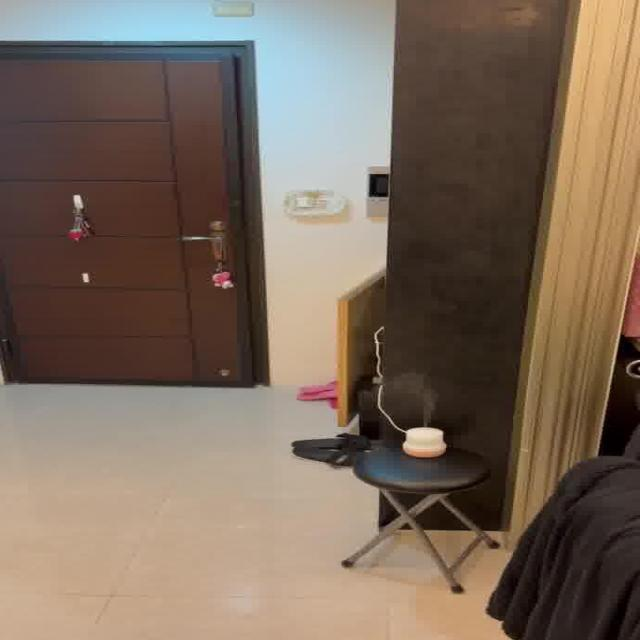fire: (396, 371, 448, 420)
